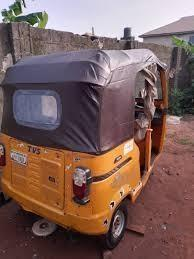keke: (0, 47, 178, 257)
